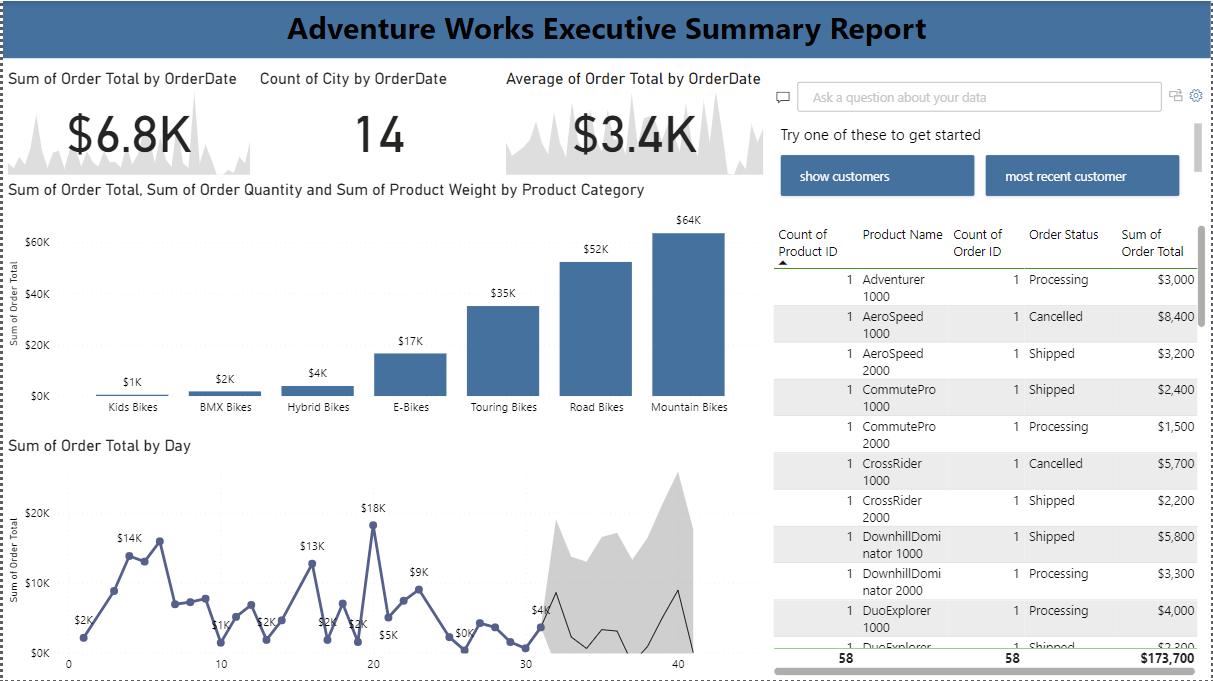

What the dashboard file says about the page in this screenshot:
{"tool":"powerbi","page":{"name":"Page 1","canvas":[1280,720],"ordinal":0},"visuals":[{"type":"tableEx","fields":{"Values":["CountNonNull(Sales.Product ID)","Sales.Product Name","CountNonNull(Sales.Order ID)","Sales.Order Status","Sum(Sales.Order Total)"]},"box":[811.2,232.2,469.2,488.3],"z":0},{"type":"clusteredColumnChart","fields":{"Category":["Sales.Product Category"],"Y":["Sum(Sales.Order Total)"]},"box":[0,189.3,811.2,259.3],"z":1000},{"type":"lineChart","fields":{"Y":["Sum(Sales.Order Total)"],"Category":["Sales.OrderDate.Variation.Date Hierarchy.Year","Sales.OrderDate.Variation.Date Hierarchy.Quarter","Sales.OrderDate.Variation.Date Hierarchy.Month","Sales.OrderDate.Variation.Date Hierarchy.Day"]},"box":[0,461.3,811.2,259.3],"z":2000},{"type":"qnaVisual","box":[811.2,60.4,469.2,160.7],"z":3000},{"type":"kpi","fields":{"Indicator":["Avg(Sales.Order Total)"],"TrendLine":["Sales.OrderDate"]},"box":[528.1,71.6,283.1,117.7],"z":4000},{"type":"kpi","fields":{"Indicator":["Sum(Sales.Order Total)"],"TrendLine":["Sales.OrderDate"]},"box":[0,71.6,267.2,117.7],"z":5000},{"type":"kpi","fields":{"Indicator":["Count(Customers.City)"],"TrendLine":["Sales.OrderDate"]},"box":[267.2,71.6,260.9,117.7],"z":6000},{"type":"textbox","box":[0,0,1280.4,60.4],"z":7000}]}

Visuals, with their boxes in screenshot pixels (x1, y1, x2, y2), scaled from the page's 1280x720 canvas onto the 1213x681 screenshot:
tableEx - CountNonNull(Sales.Product ID) x Sales.Product Name: <region>769, 220, 1212, 680</region>
clusteredColumnChart - Sales.Product Category x Sum(Sales.Order Total): <region>0, 179, 769, 424</region>
lineChart - Sum(Sales.Order Total) x Sales.OrderDate.Variation.Date Hierarchy.Year: <region>0, 436, 769, 680</region>
qnaVisual: <region>769, 57, 1212, 209</region>
kpi - Avg(Sales.Order Total) x Sales.OrderDate: <region>500, 68, 769, 179</region>
kpi - Sum(Sales.Order Total) x Sales.OrderDate: <region>0, 68, 253, 179</region>
kpi - Count(Customers.City) x Sales.OrderDate: <region>253, 68, 500, 179</region>
textbox: <region>0, 0, 1212, 57</region>
